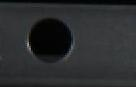holes: (24, 15, 75, 65)
